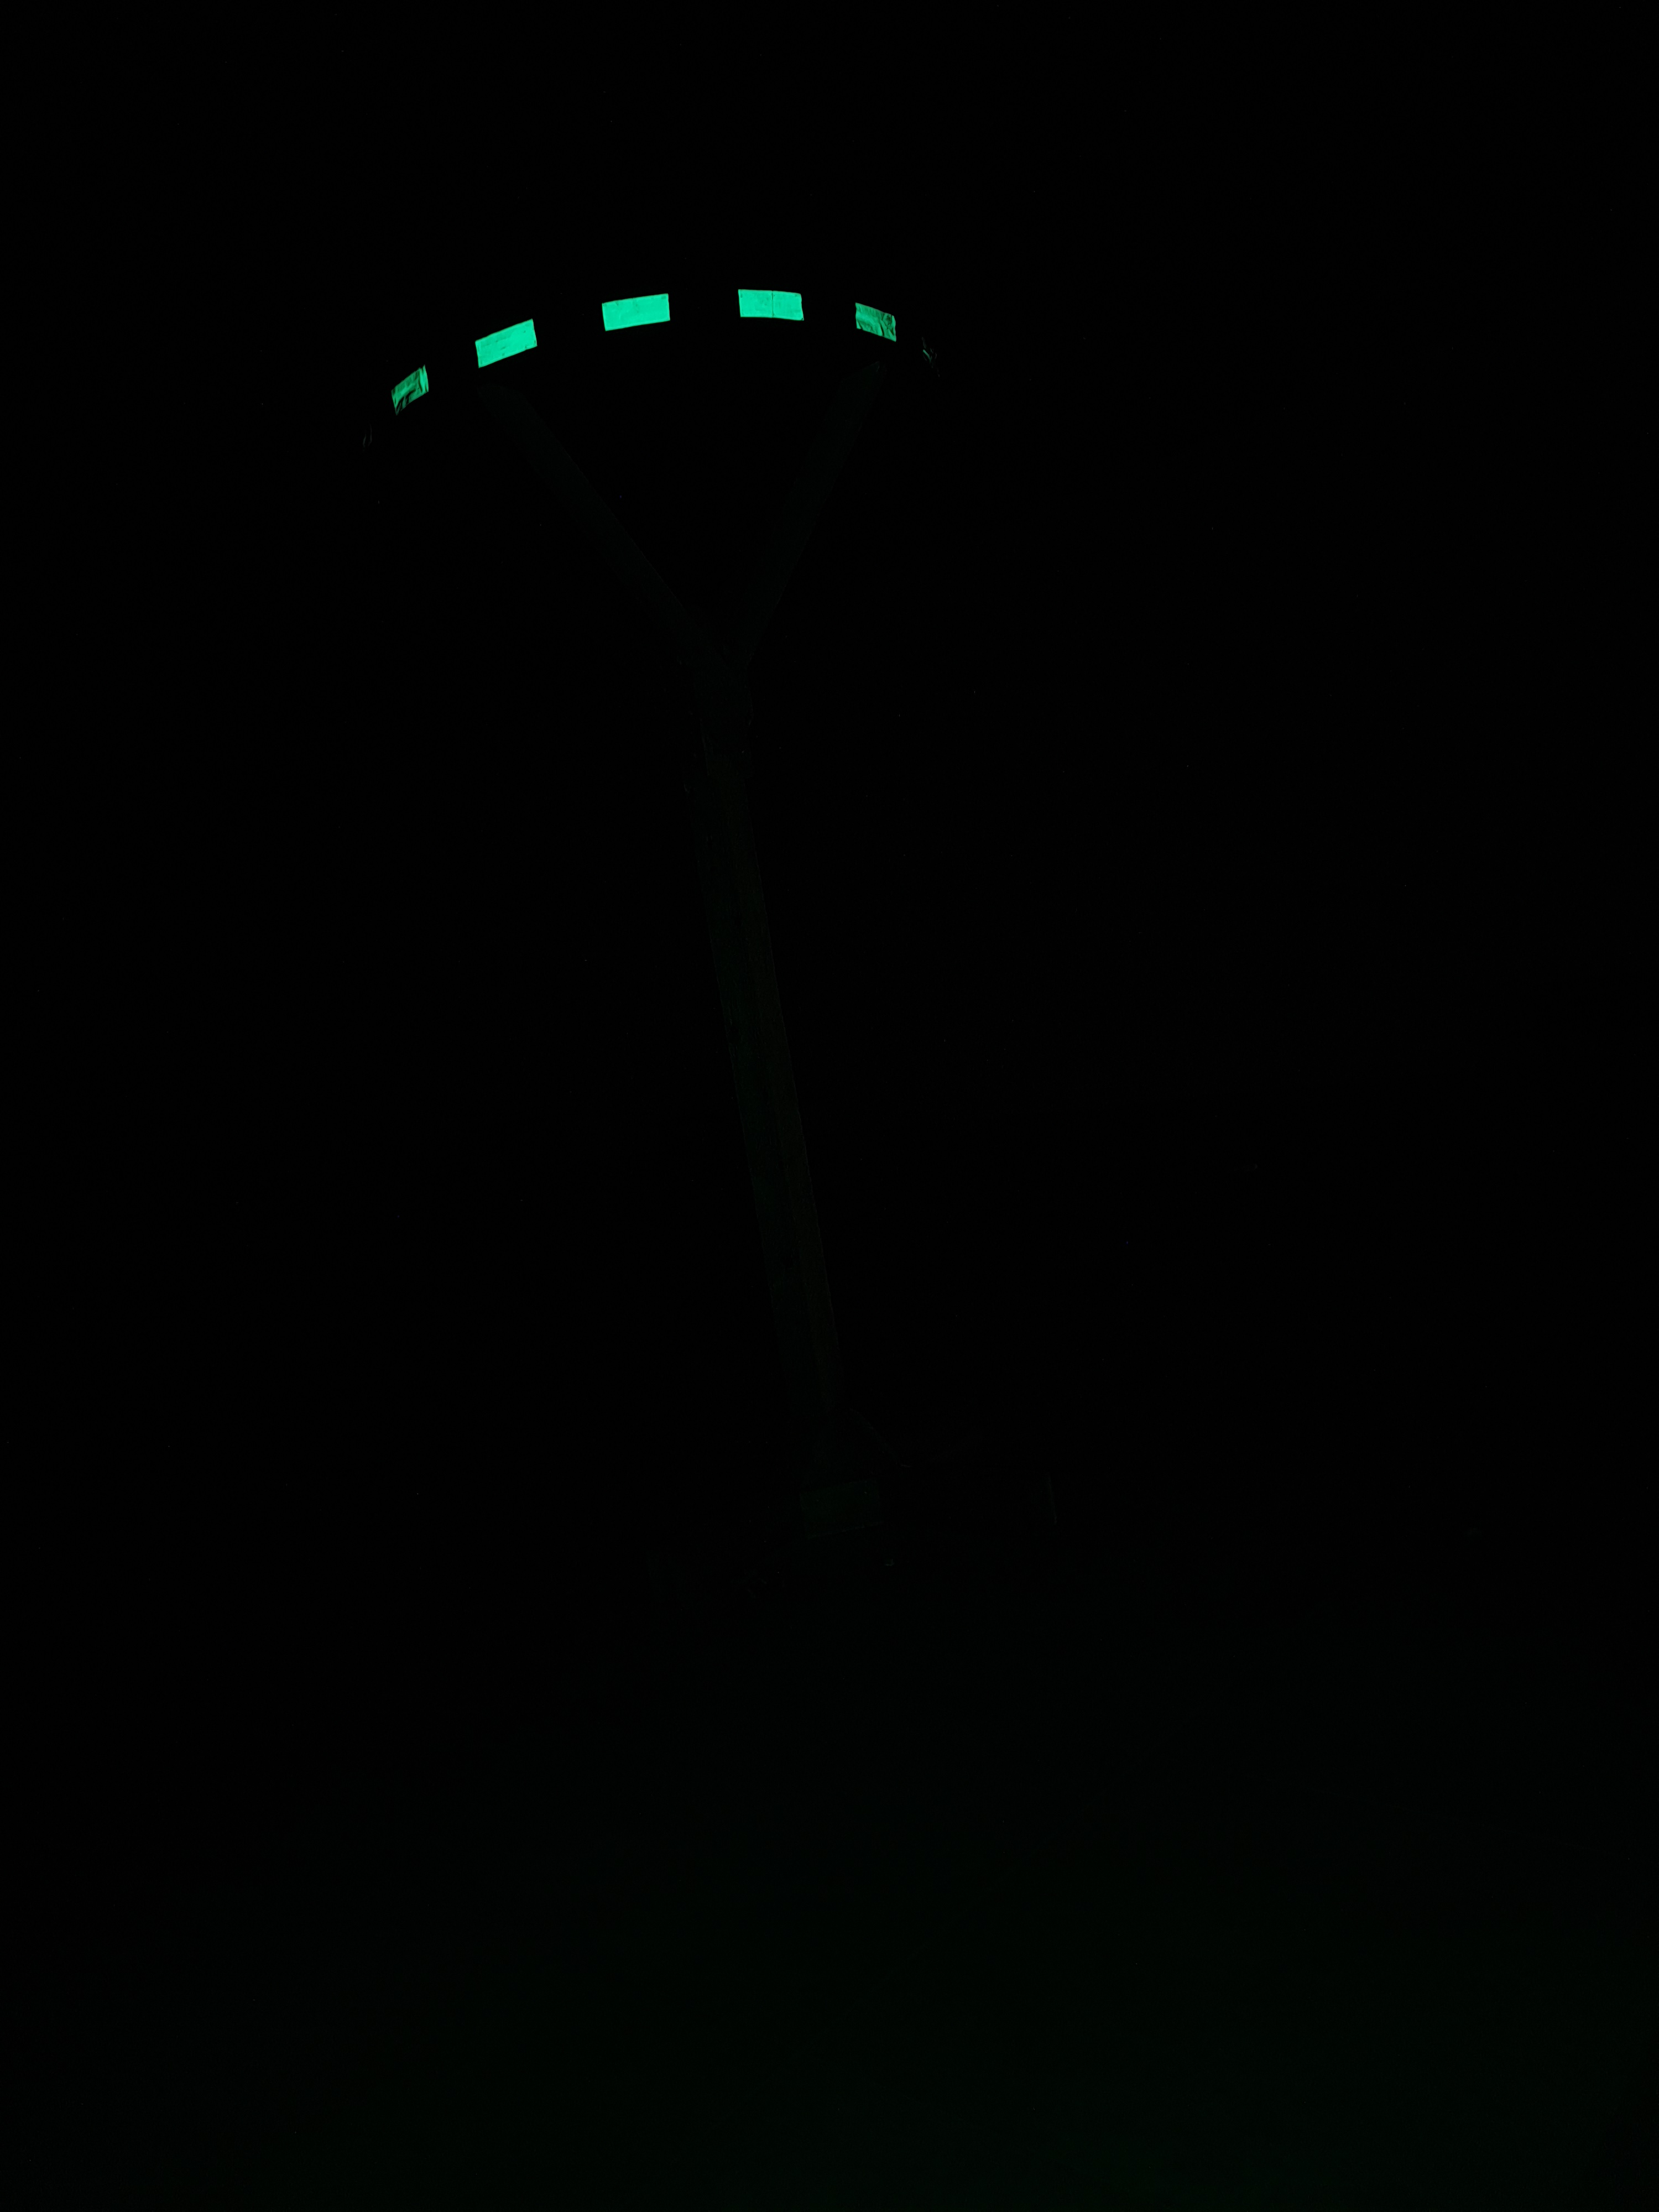hoop: (385, 284, 899, 411)
